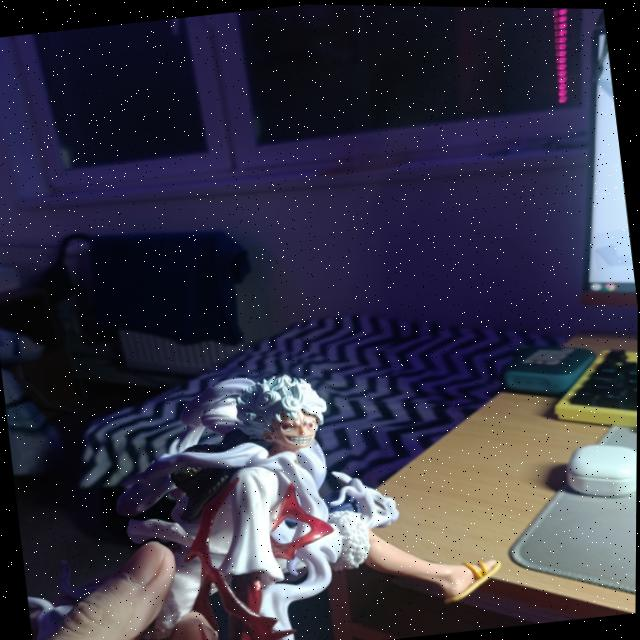luffy: (0, 311, 584, 640)
